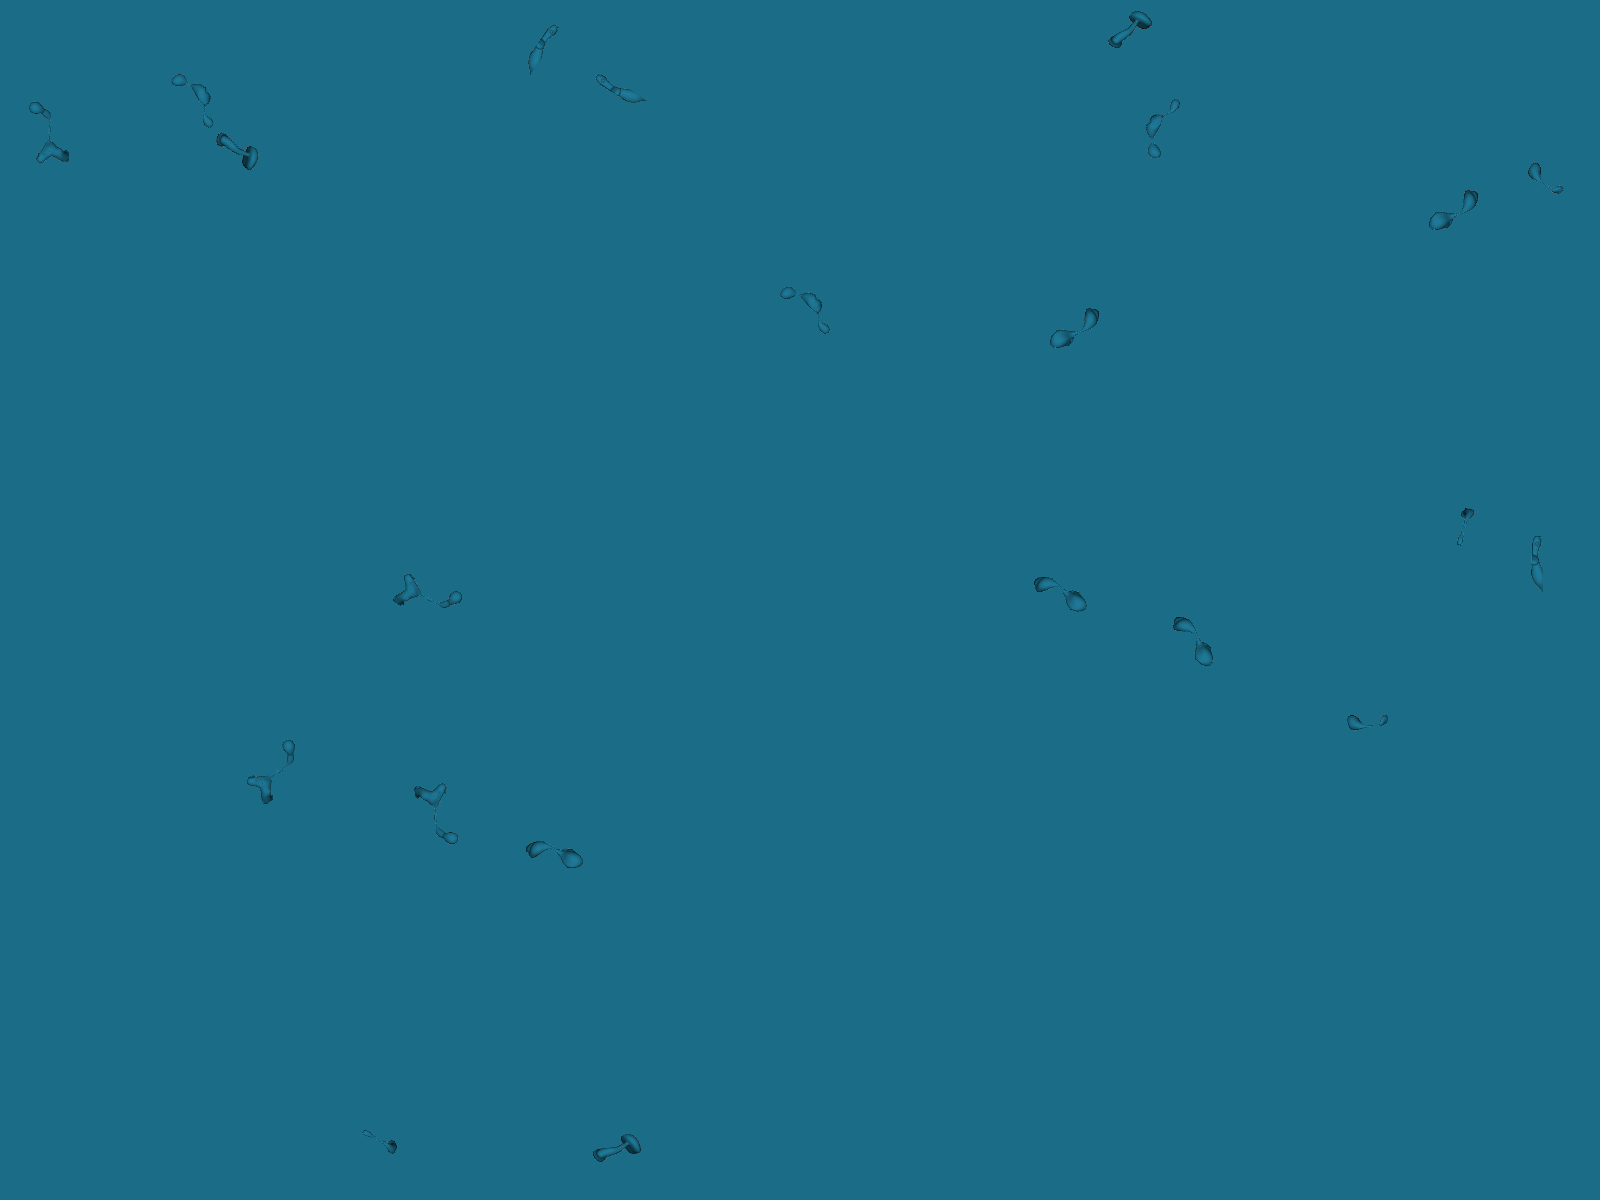Detached ligament: (234, 734, 315, 811), (386, 560, 467, 632), (774, 268, 843, 343), (1128, 89, 1191, 166), (165, 59, 228, 135), (1043, 295, 1105, 359), (1422, 176, 1484, 241), (1160, 611, 1225, 673), (413, 776, 462, 848), (25, 100, 71, 169), (1027, 574, 1092, 618), (1105, 5, 1157, 61), (515, 19, 563, 78), (590, 69, 650, 116), (590, 1129, 646, 1175), (207, 130, 265, 174), (524, 839, 585, 874), (1521, 158, 1567, 200), (357, 1124, 401, 1156), (1526, 534, 1545, 595), (1453, 505, 1477, 550), (1344, 712, 1390, 734)
